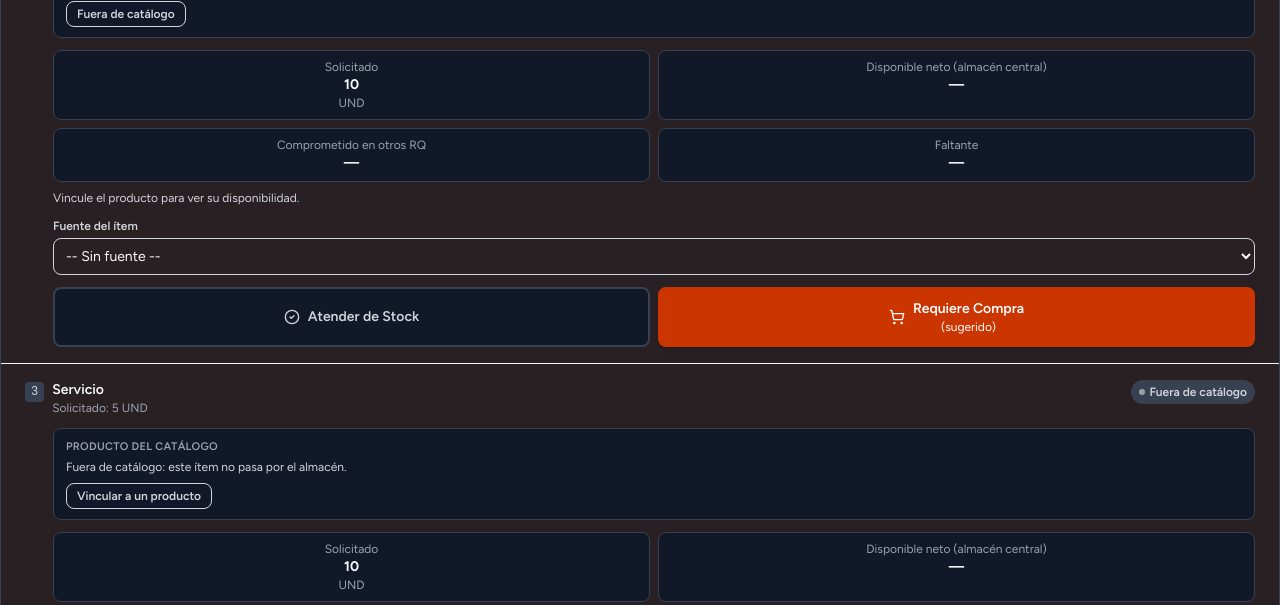
Test: StockCheckPanel — confirmar › varios ítems sin cobertura se anuncian en plural y el aviso se retira al pasarlos a compra
The image size is (1280, 605).
(page scrolled)
Step 1. Click the button "Atender de Stock" → (352, 316), box [53,286,650,346]
(page scrolled)
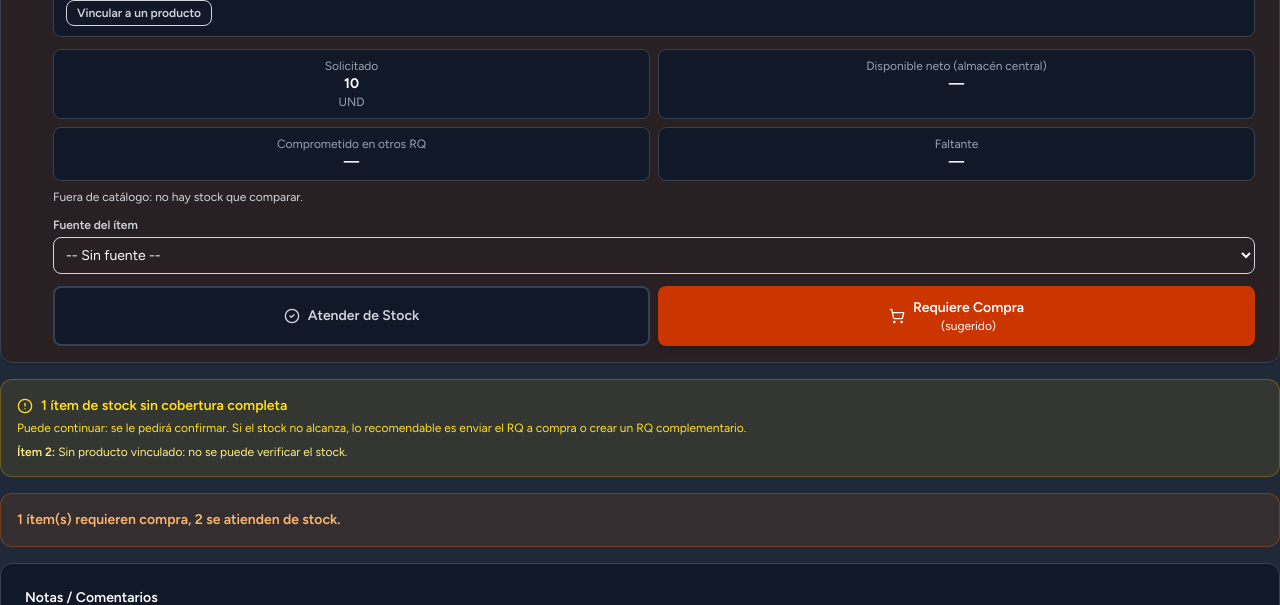
Step 2. Click the button "Atender de Stock" → (352, 316), box [53,286,650,346]
(page scrolled)
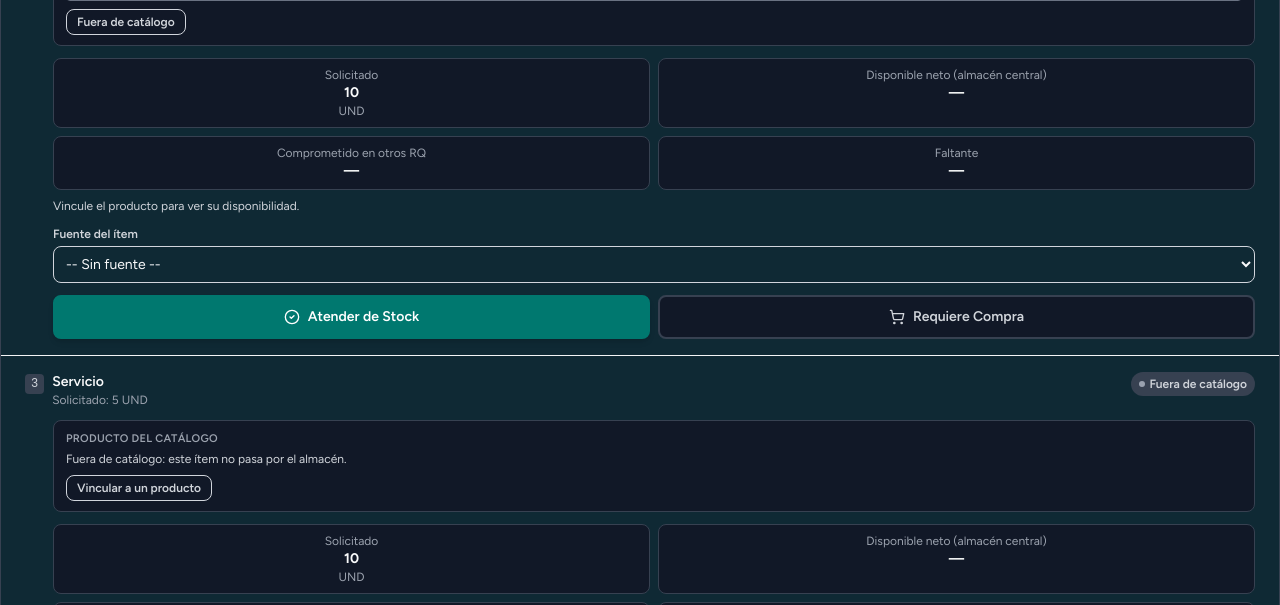
Step 3. Click the button "Requiere Compra" → (956, 316), box [658,294,1255,338]
(page scrolled)
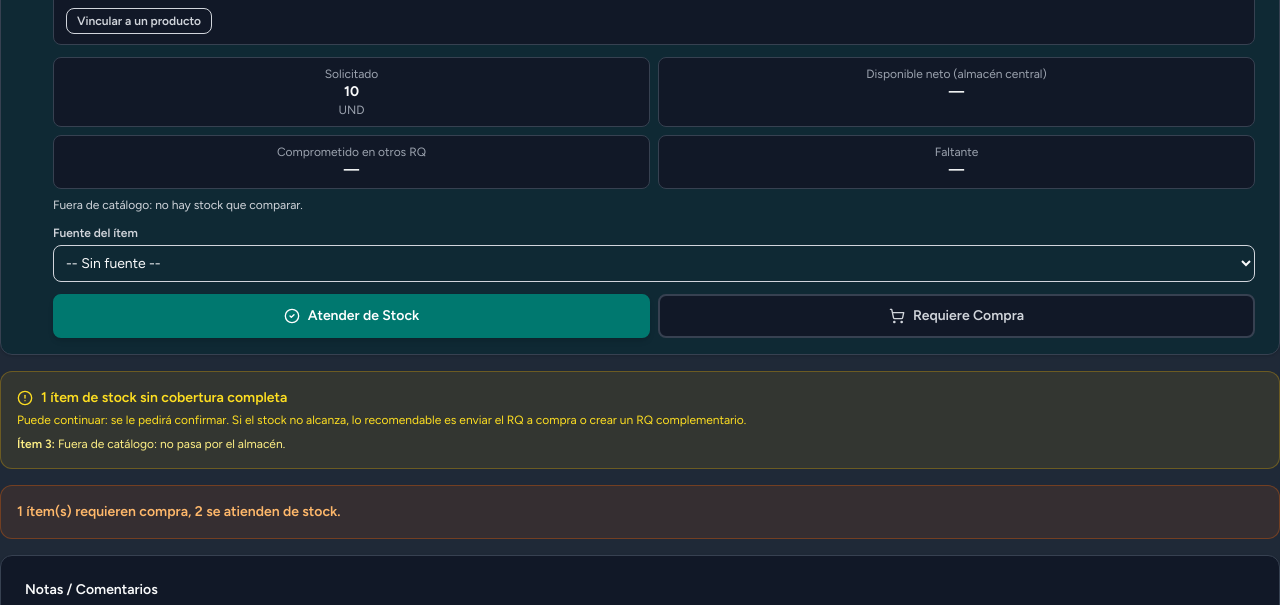
Step 4. Click the button "Requiere Compra" → (956, 316), box [658,294,1255,338]
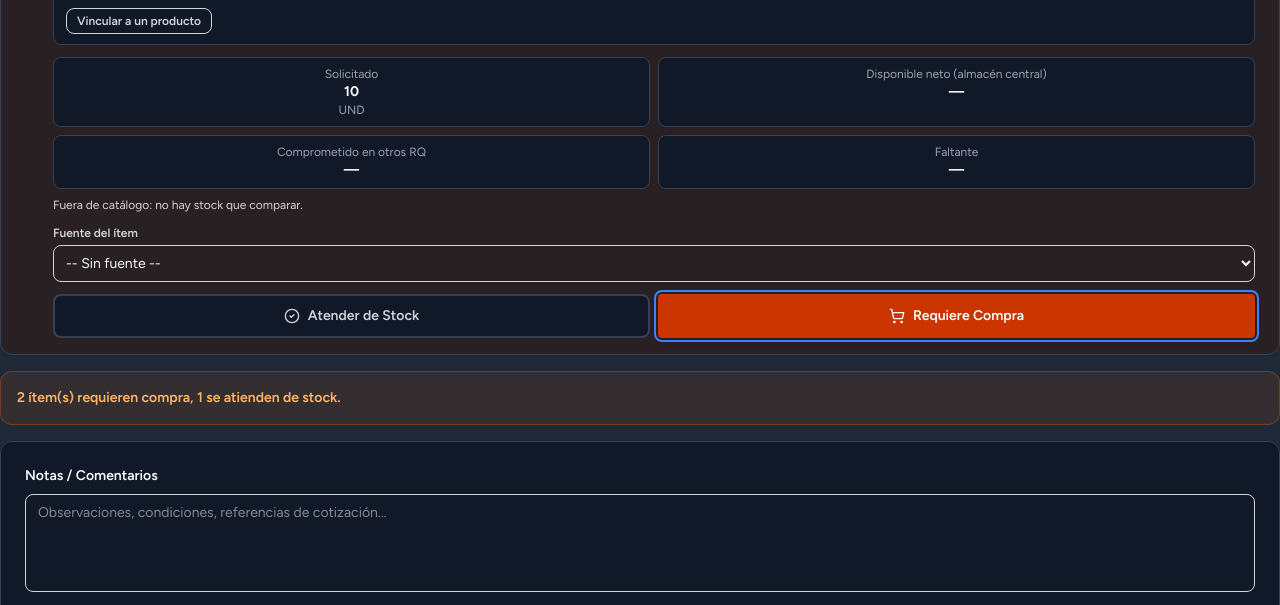
Check: the text "1 ítem de stock sin cobertura completa" is gone
